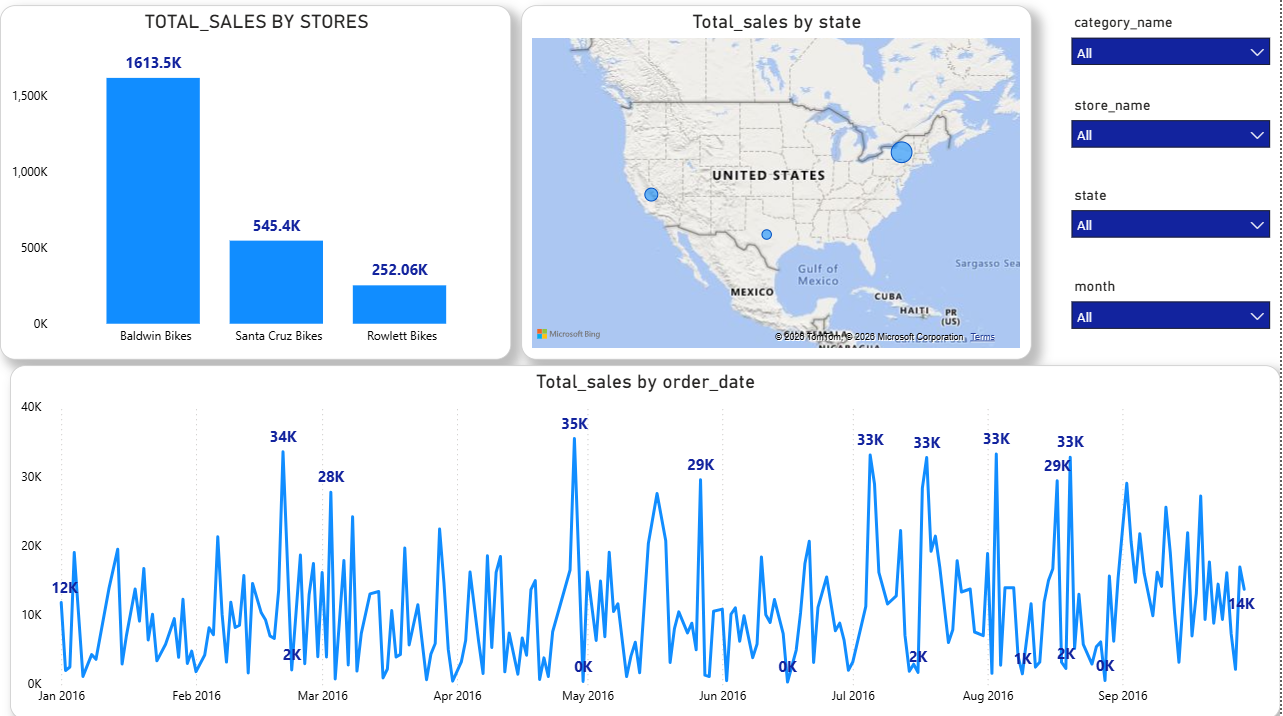

The dashboard page shown, as its layout file describes it:
{"tool":"powerbi","page":{"name":"DASHBOARD2","canvas":[1280,720],"ordinal":1},"visuals":[{"type":"clusteredColumnChart","title":"TOTAL_SALES BY STORES","fields":{"Category":["stores.store_name"],"Y":["order_items.Total_sales"]},"box":[0,5.7,511.4,354.3],"z":0},{"type":"map","fields":{"Category":["stores.state"],"Size":["order_items.Total_sales"]},"box":[521.4,5.7,510,354.3],"z":1000},{"type":"lineChart","fields":{"Y":["order_items.Total_sales"],"Category":["orders.order_date.Variation.Date Hierarchy.Year"]},"box":[10,365.7,1270,354.3],"z":2000},{"type":"slicer","fields":{"Values":["categories.category_name"]},"box":[1061.4,10,218.6,55.7],"z":3000},{"type":"slicer","fields":{"Values":["stores.state"]},"box":[1061.4,182.9,218.6,55.7],"z":4000},{"type":"slicer","fields":{"Values":["stores.store_name"]},"box":[1061.4,92.9,218.6,55.7],"z":5000},{"type":"slicer","fields":{"Values":["Dates.month"]},"box":[1061.4,274.3,218.6,55.7],"z":6000}]}

Visuals, with their boxes in screenshot pixels (x1, y1, x2, y2), scaled from the page's 1280x720 canvas onto the 1283x716 screenshot:
"TOTAL_SALES BY STORES" clusteredColumnChart: 0:6:513:358
map - stores.state x order_items.Total_sales: 523:6:1034:358
lineChart - order_items.Total_sales x orders.order_date.Variation.Date Hierarchy.Year: 10:364:1282:715
slicer - categories.category_name: 1064:10:1282:65
slicer - stores.state: 1064:182:1282:237
slicer - stores.store_name: 1064:92:1282:148
slicer - Dates.month: 1064:273:1282:328
